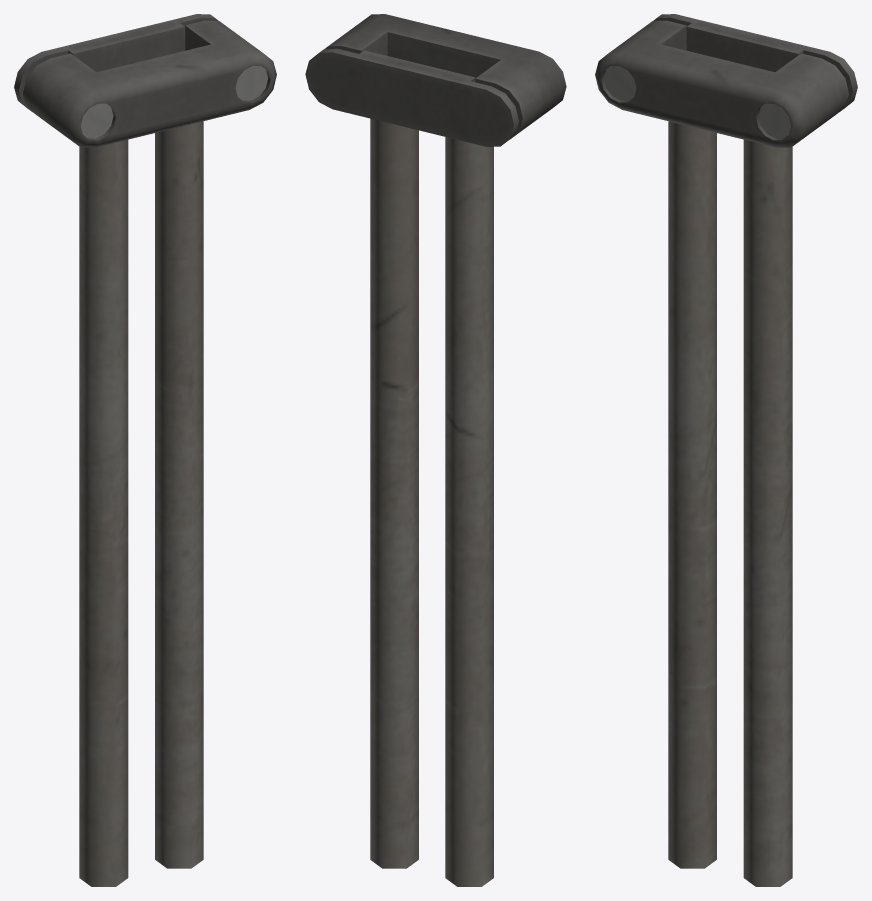
Rendered from cable_double.glb.
3 renders of one model, left to right at view 1: azimuth 30°, elevation 25°; view 2: azimuth 150°, elevation 25°; view 3: azimuth 330°, elevation 25°, orthographic.
Parts seen in each view (by area): view 1: cable_double.001; view 2: cable_double.001; view 3: cable_double.001.
Part boxes in pixels (x1,y1,x2,y2): cable_double.001: (14,14,276,886); cable_double.001: (305,14,566,886); cable_double.001: (595,14,857,886).
Size of the model in its own units: 0.0556 by 0.2073 by 0.0259.
1 material, 1 textured.
